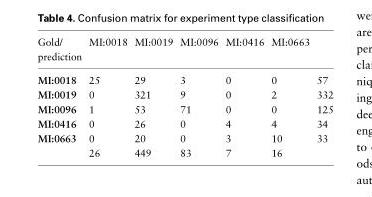table: (36, 36, 332, 157)
table column: (36, 36, 84, 157), (84, 36, 130, 157), (175, 36, 221, 157), (266, 36, 312, 157), (130, 36, 175, 157), (221, 36, 266, 157), (312, 36, 332, 157)
table column header: (36, 36, 332, 68)
table row: (36, 36, 332, 68), (36, 68, 332, 87), (36, 87, 332, 102), (36, 116, 332, 131), (36, 102, 332, 116), (36, 131, 332, 145), (36, 145, 332, 157)
table spanning cell: (36, 131, 84, 157)
